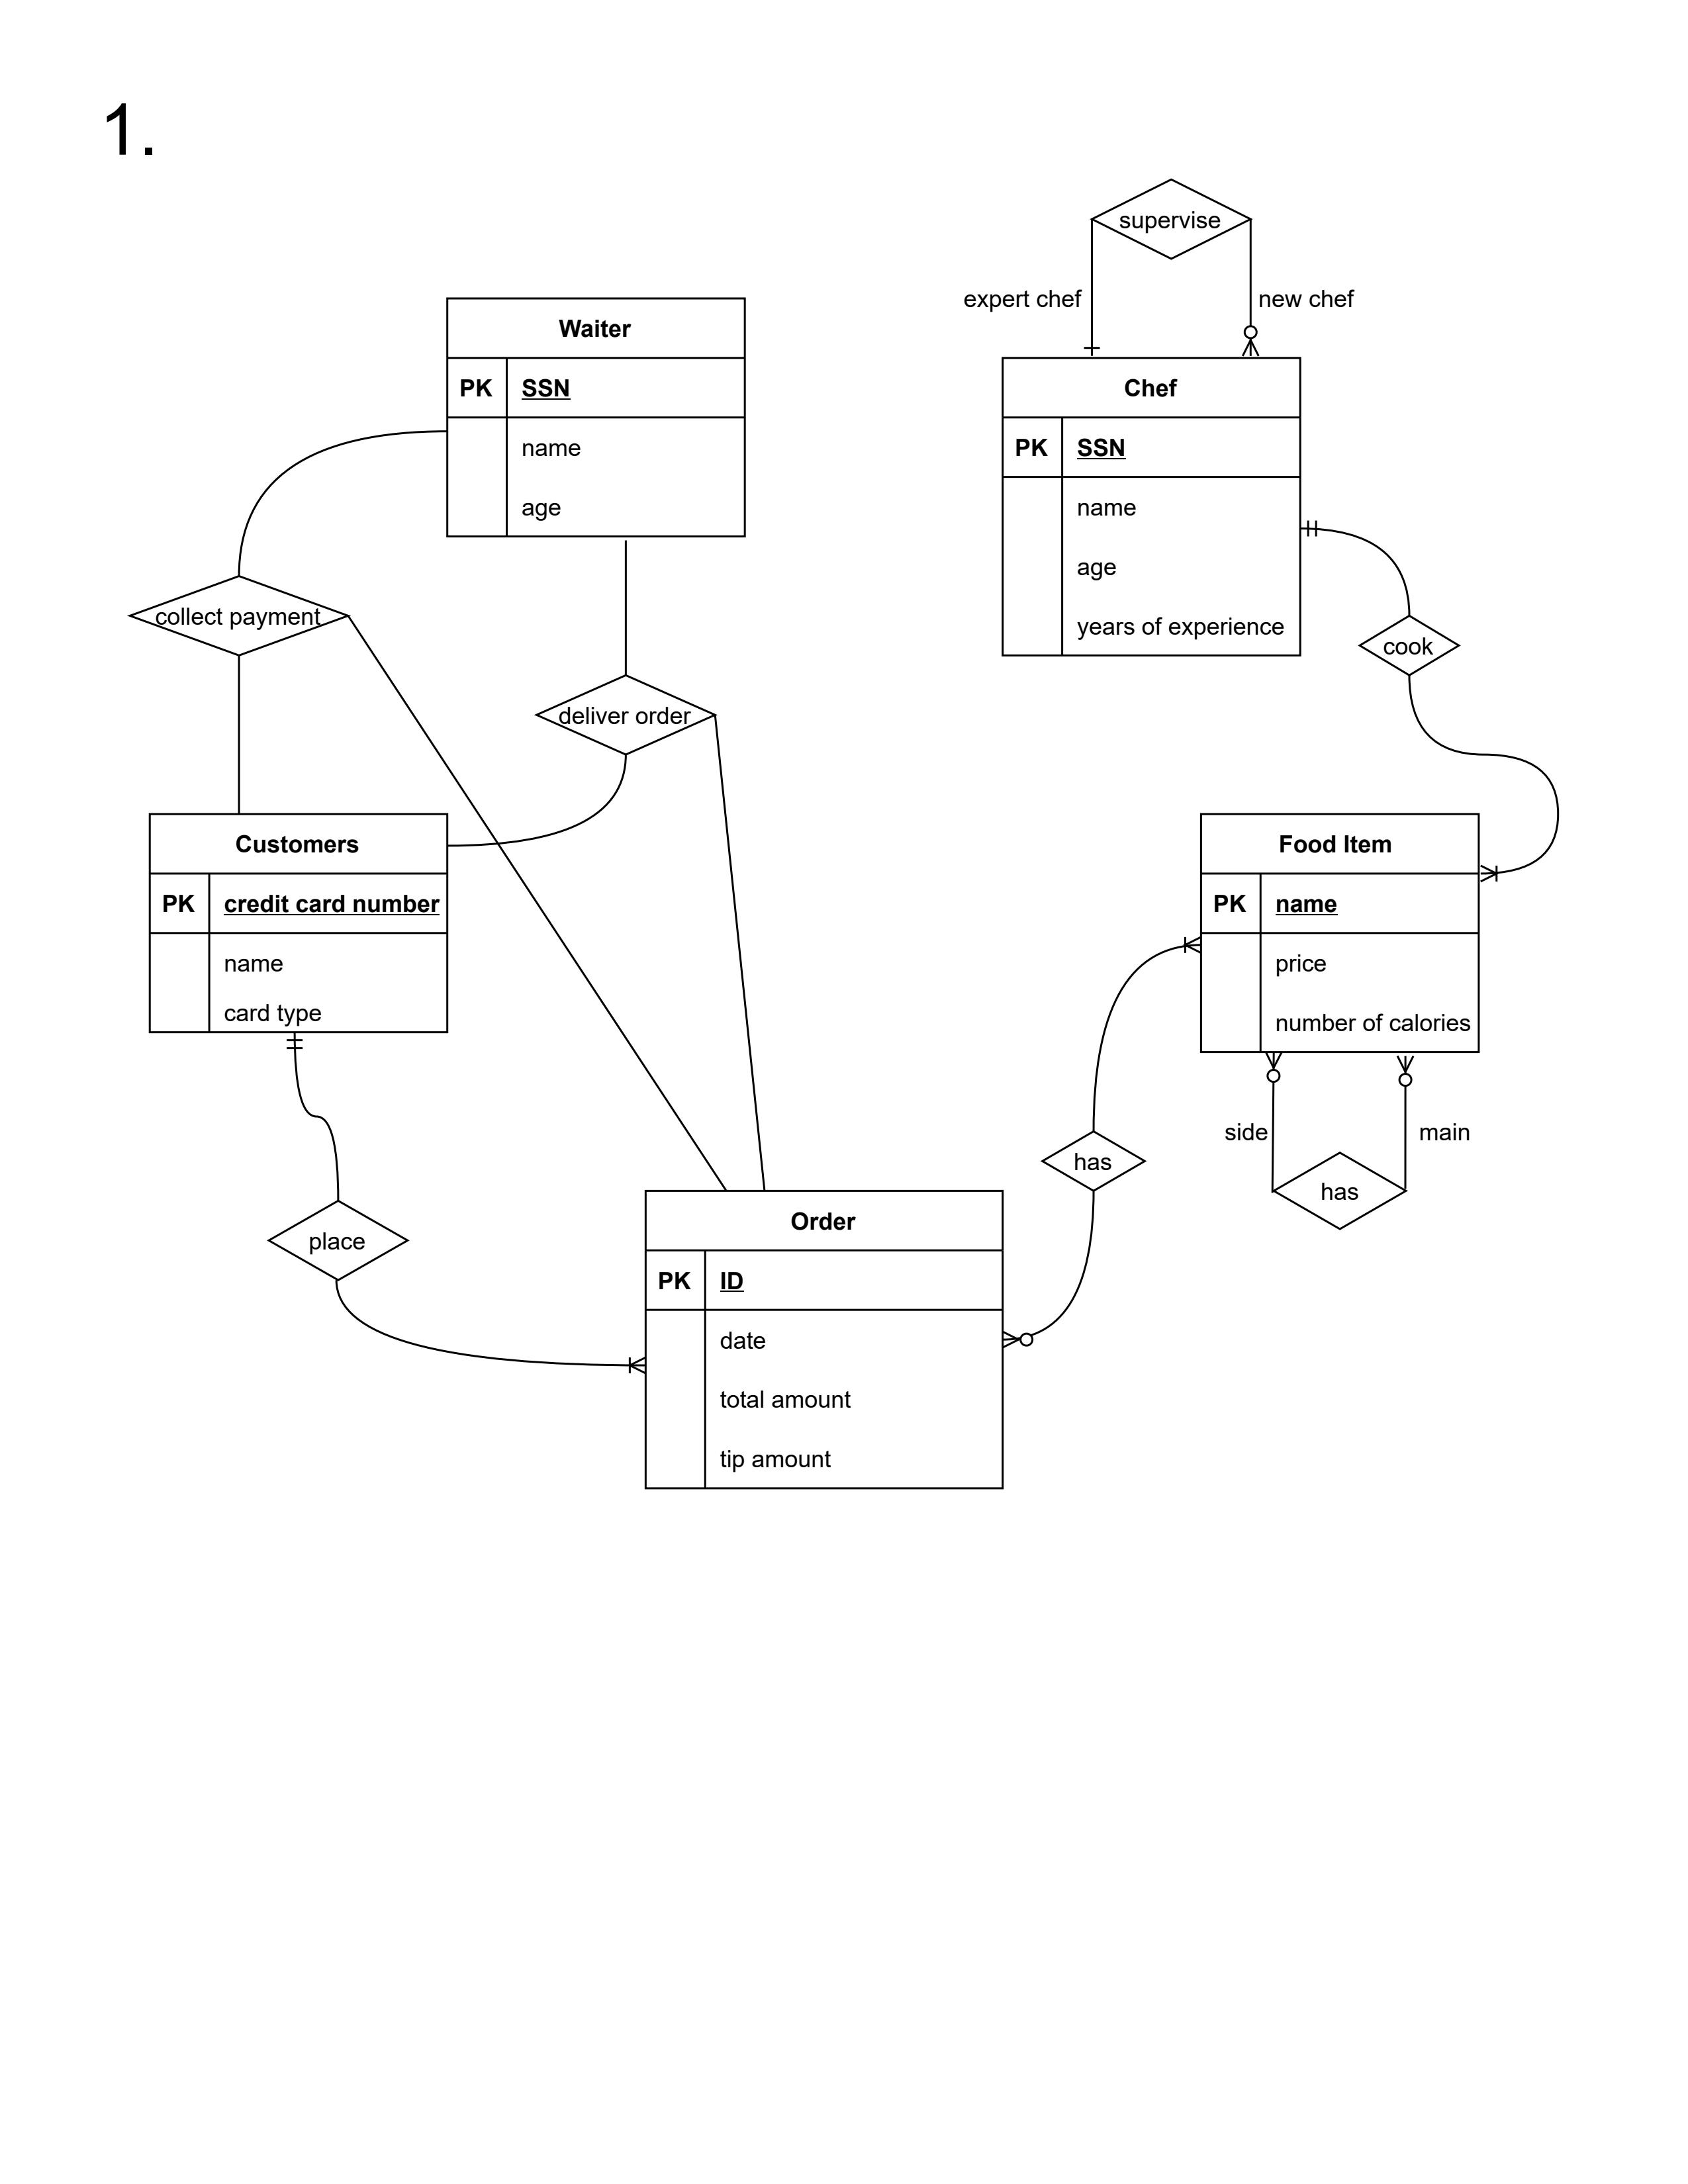Entity: (644, 1189, 1005, 1491), (1000, 356, 1301, 658), (445, 296, 748, 539), (1199, 812, 1481, 1053), (147, 812, 450, 1035)
Relationship: (128, 576, 349, 656), (535, 675, 715, 755), (1092, 177, 1250, 259), (266, 1202, 408, 1282), (1273, 1152, 1406, 1230), (1041, 1131, 1147, 1191), (1358, 615, 1461, 675)
